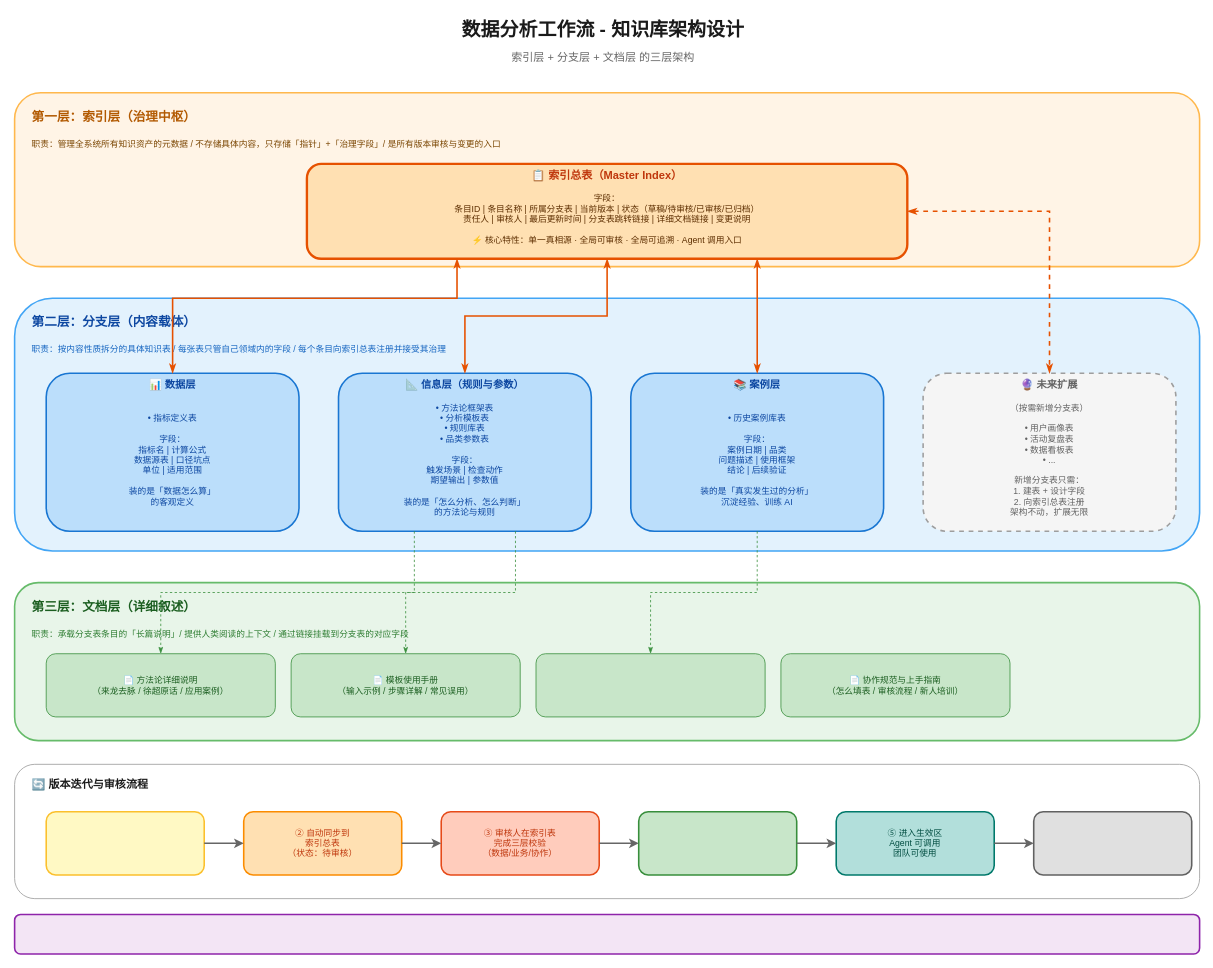
Image size: 1213x968. Some labels were removed from this diagram. The centre of each missing label's shape, as x and y in pixels:
① 个人在分支表 新增/修改条目 （状态：草稿）: point (125, 843)
④ 审核通过 状态变为「已审核」 版本号+1: point (717, 843)
⑥ 旧版本归档 不删除 可追溯历史: point (1112, 843)
📄 案例完整分析 （数据 / 推演 / 结论 / 验证）: point (650, 685)
🤖 AI Agent 调用路径： Agent → 索引总表（查找资产ID + 验证状态）→ 对应分支表（读取具体内容）→ 必要时跳转文档层（读取详细说明）: point (606, 933)
